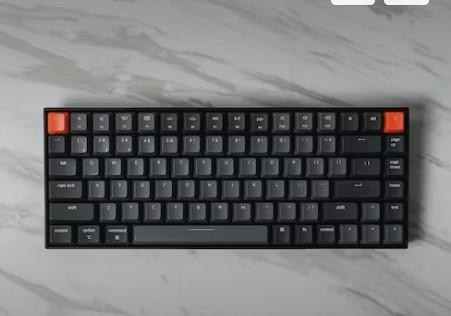Keyboard: (42, 107, 416, 251)
